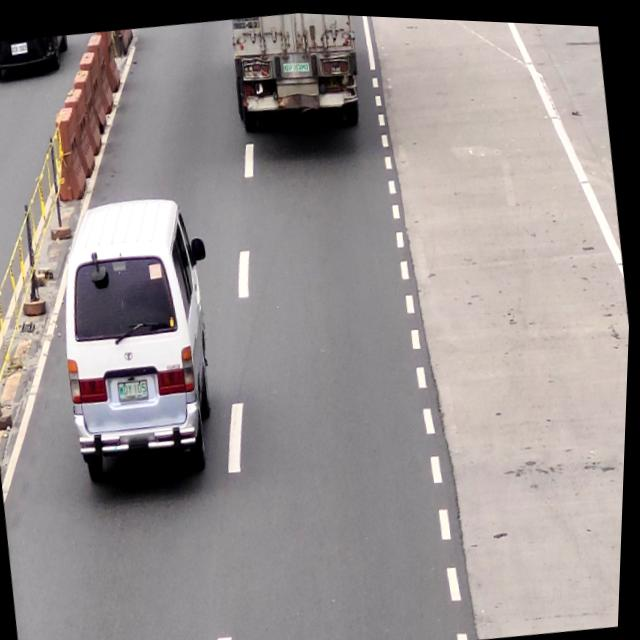Car: (50, 184, 229, 479)
License-Plate: (119, 374, 154, 408)
Truck: (223, 8, 365, 146)
